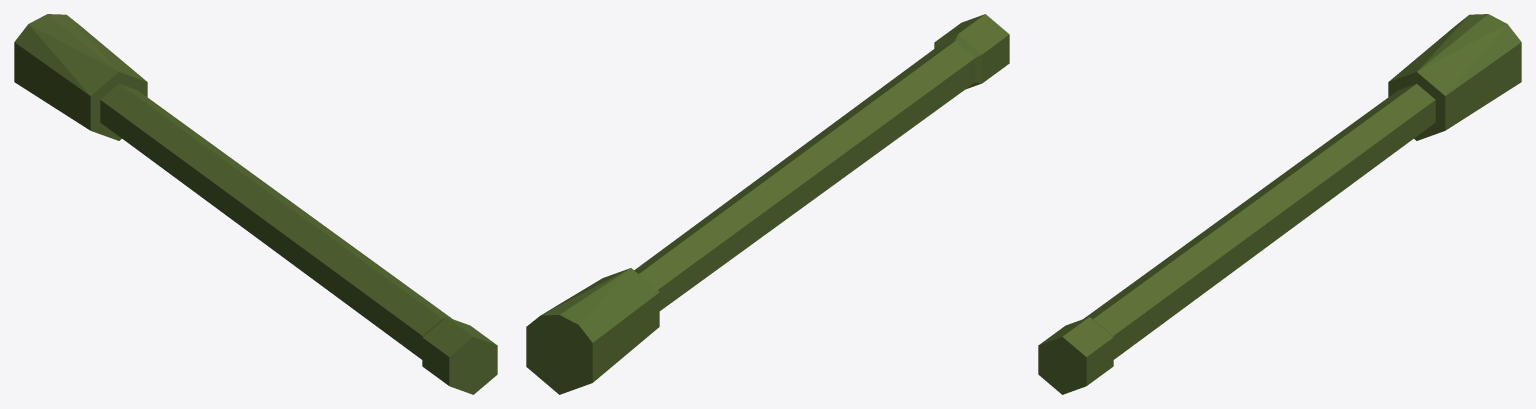
Rendered from Proto_Vehicle_Tank_Turret_Gun_01.fbx.
3 views of the same model, side by side, from view 1: azimuth 30°, elevation 25°; view 2: azimuth 150°, elevation 25°; view 3: azimuth 330°, elevation 25° (orthographic).
Parts seen in each view (by area): view 1: Proto_Vehicle_Tank_Turret_Gun_01; view 2: Proto_Vehicle_Tank_Turret_Gun_01; view 3: Proto_Vehicle_Tank_Turret_Gun_01.
Boxes of the visible parts, x1,y1,x2,y2 form: Proto_Vehicle_Tank_Turret_Gun_01: (14,14,497,394); Proto_Vehicle_Tank_Turret_Gun_01: (526,14,1009,394); Proto_Vehicle_Tank_Turret_Gun_01: (1038,14,1521,394).
Size of the model in its own units: 0.3583 by 0.4137 by 3.99.
